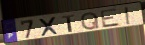7: (20, 19, 36, 39)
E: (99, 7, 121, 29)
I: (124, 6, 132, 26)
Q: (80, 11, 101, 31)
T: (62, 14, 76, 33)
X: (38, 16, 60, 38)
